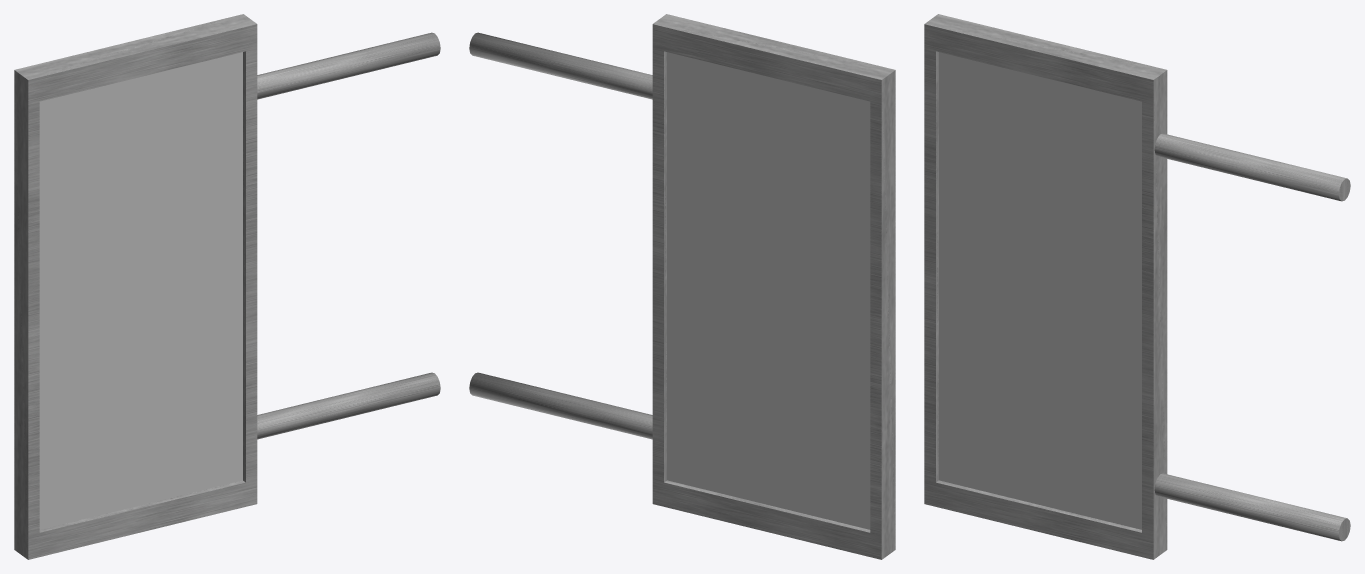
Rendered from panneau2.fbx.
The picture shows the model from 3 angles, left to right: view 1: azimuth 30°, elevation 25°; view 2: azimuth 150°, elevation 25°; view 3: azimuth 330°, elevation 25°; orthographic projection.
Visible parts, largest first — view 1: paneau2; view 2: paneau2; view 3: paneau2.
Boxes of the visible parts, x1,y1,x2,y2 form: paneau2: (14, 14, 440, 559); paneau2: (469, 14, 895, 559); paneau2: (924, 14, 1350, 559).
Bounding box in the file's own units: 227 × 251 × 13.21.
